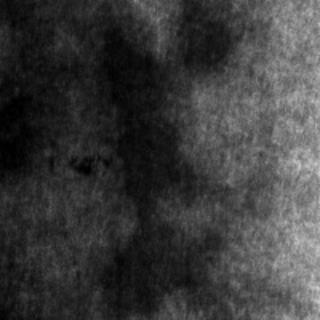patches: (98, 20, 172, 208), (0, 82, 52, 186), (178, 0, 245, 76)
